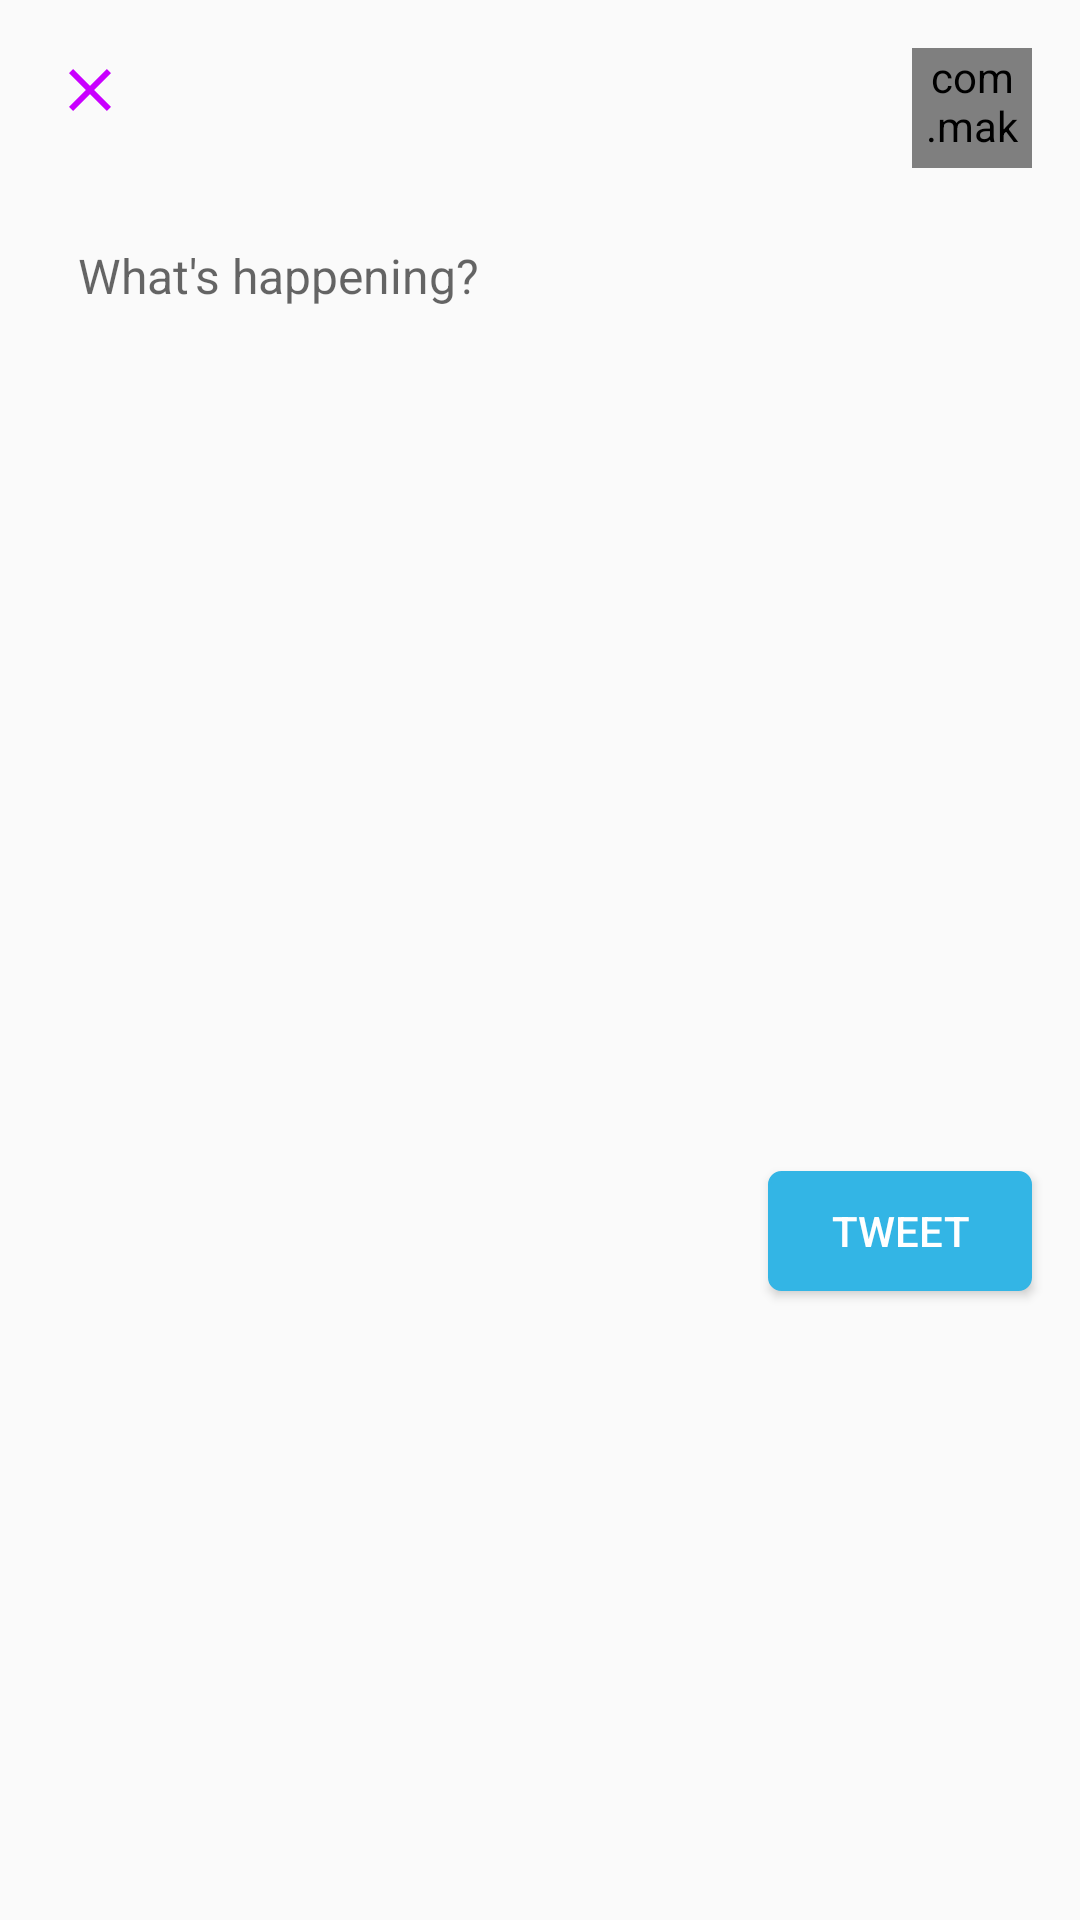

Where to tap for icons on this 1080 x 1920 app screen, as (x=x, y=y):
close: (x=90, y=90)
